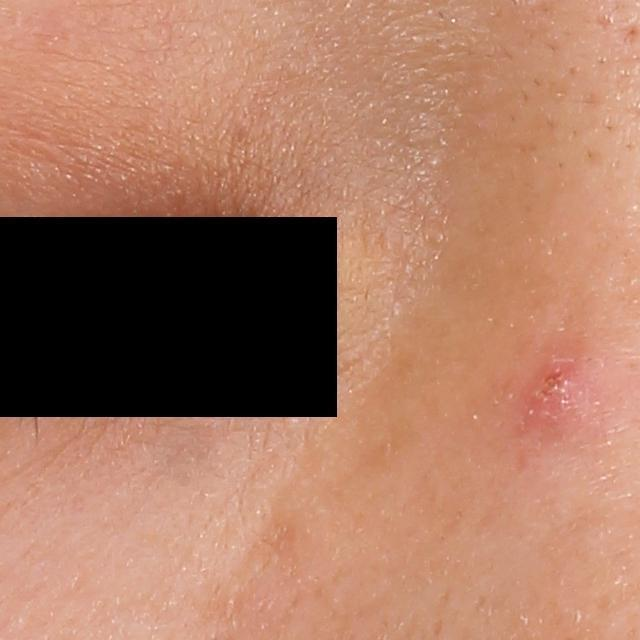papule: (524, 349, 602, 430)
